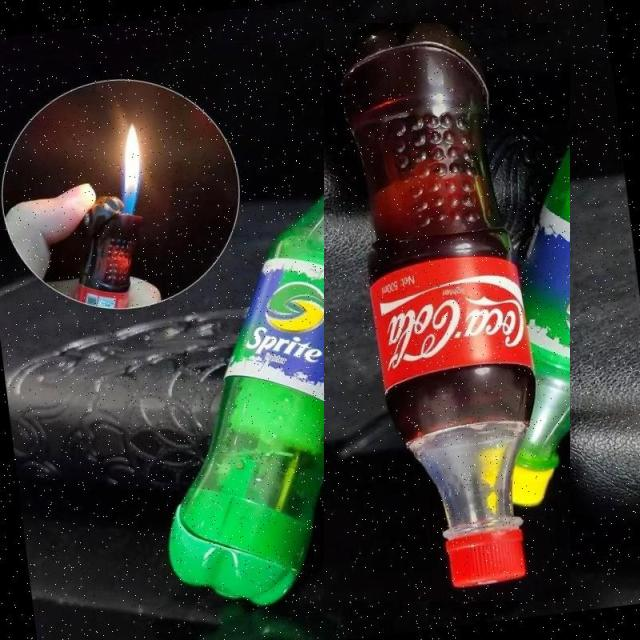coca-cola: (324, 23, 570, 601)
